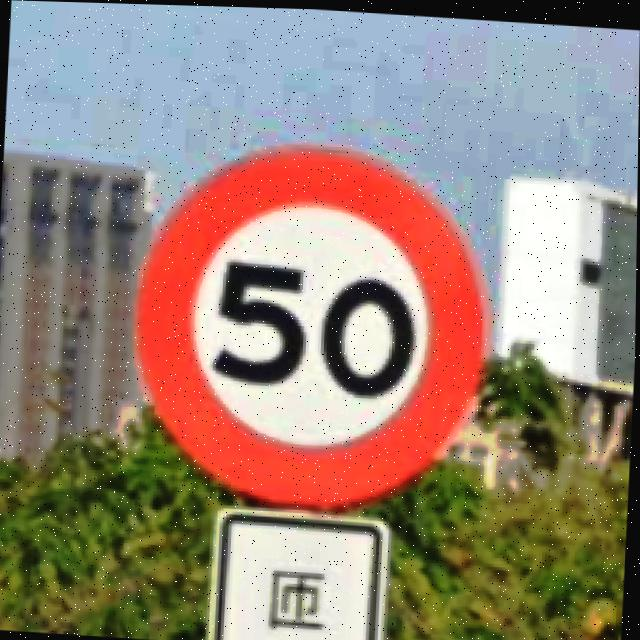max50: (121, 126, 497, 518)
